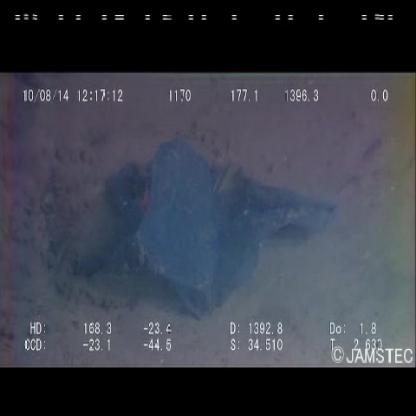Rác: (98, 136, 343, 320)
